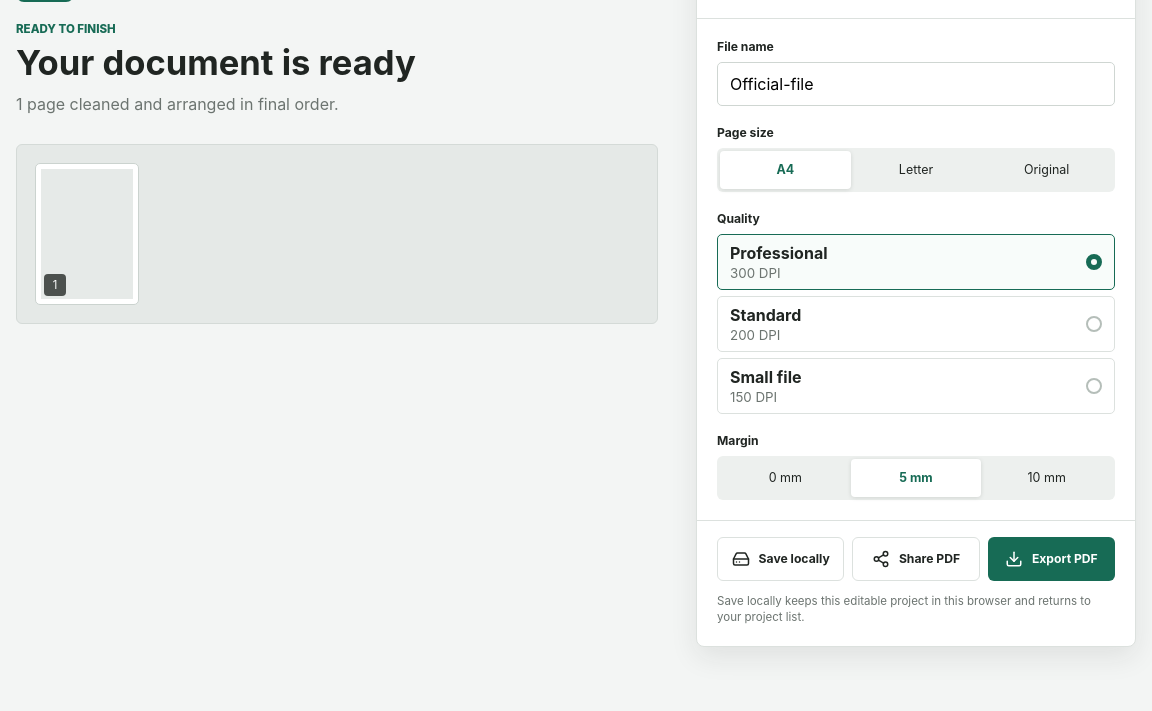
Test: completion page › reports browsers that cannot share PDF files without exporting
The width and height of the screenshot is (1152, 711).
(page scrolled)
Step 1. Click the button "Share PDF" → coordinates (916, 558), box [852,536,980,580]
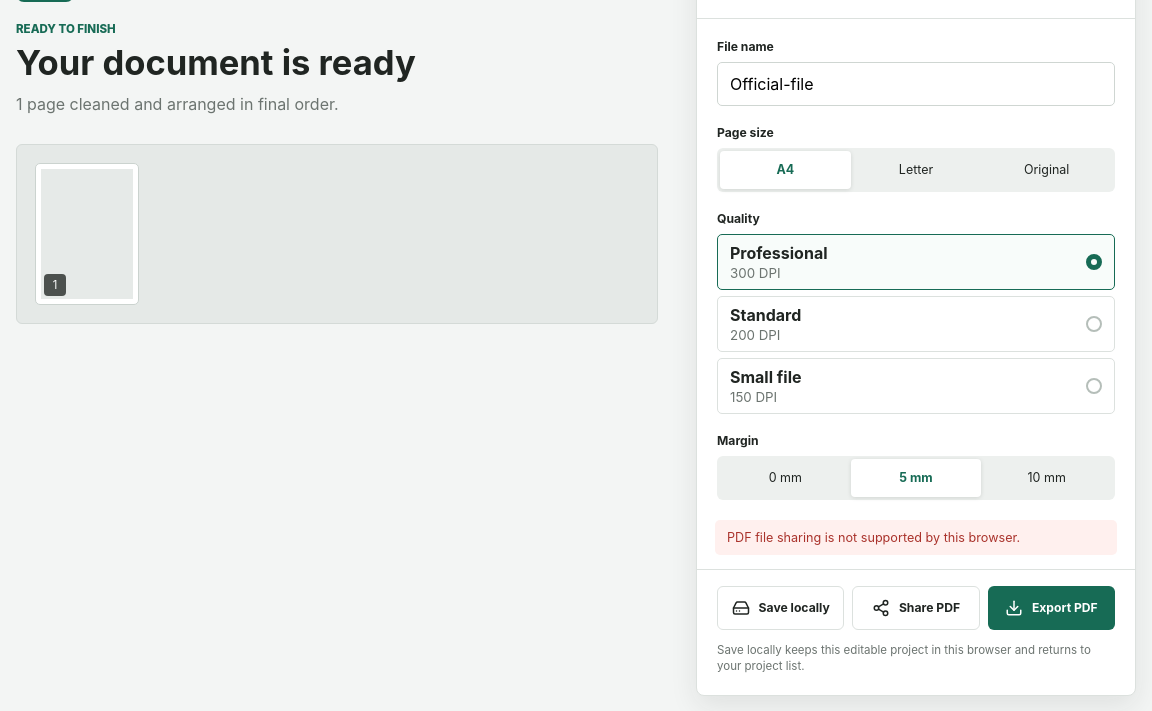
Expected: the text "PDF file sharing is not supported by this browser." is shown, [715,520,1117,554]
